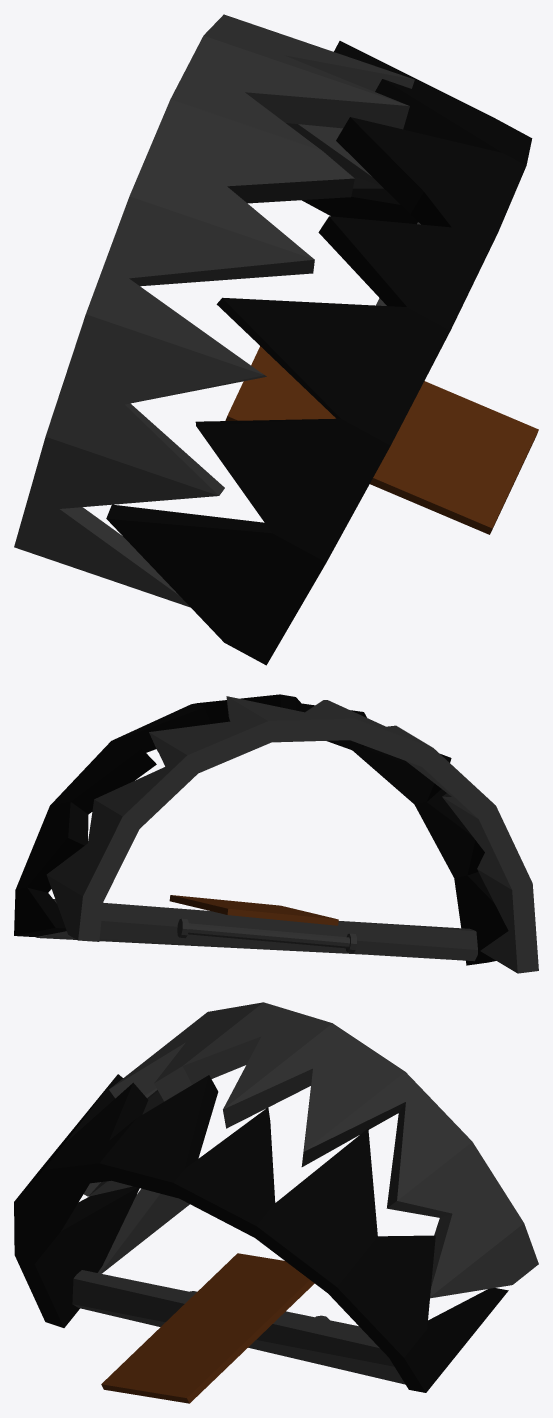
File: closedTrap.fbx
3 renders of one model, top to bottom at view 1: azimuth 30°, elevation 25°; view 2: azimuth 150°, elevation 25°; view 3: azimuth 270°, elevation 25°, orthographic. The views are drawn at different scales.
Parts seen in each view (by area): view 1: BearTrap_Closed; view 2: BearTrap_Closed; view 3: BearTrap_Closed.
Part boxes in pixels (<box>): BearTrap_Closed: <box>14,14,538,665</box>; BearTrap_Closed: <box>14,694,538,973</box>; BearTrap_Closed: <box>14,1002,538,1403</box>.
Bounding box in the file's own units: 85.87 × 61.68 × 84.87.
